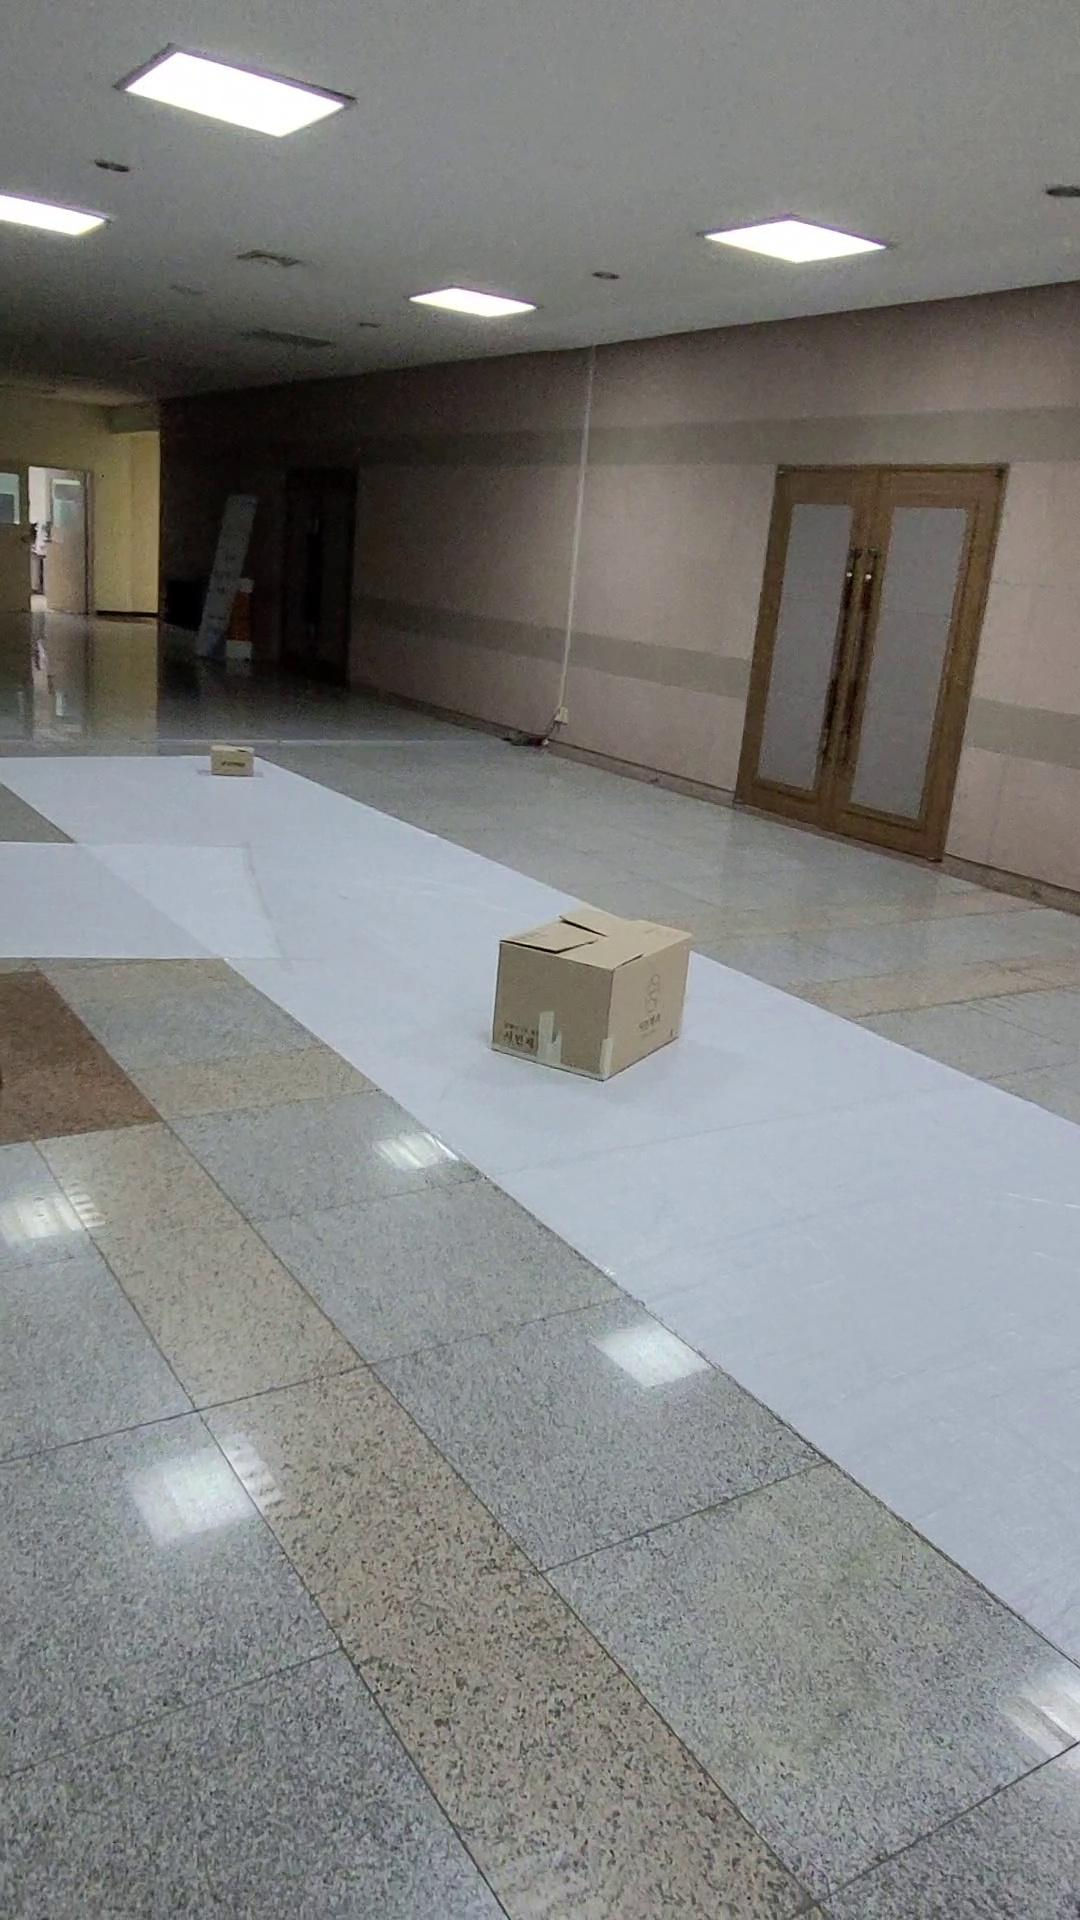Box: (448, 862, 719, 1110)
